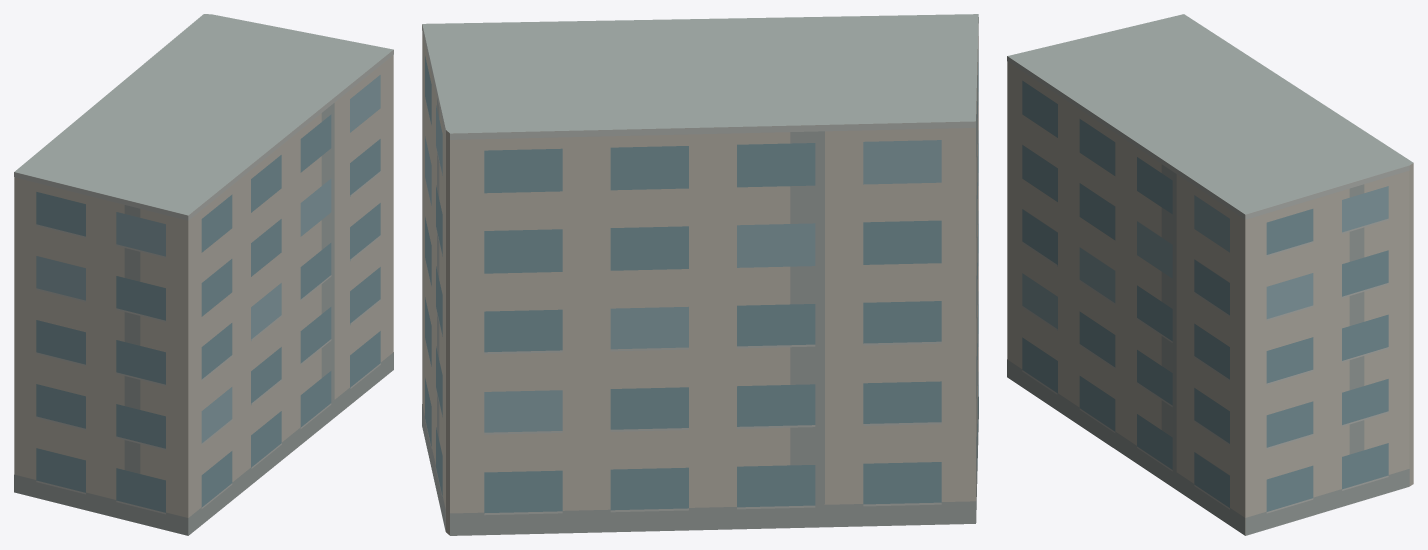
The model's file is survey-upis-33036758.glb.
3 views of the same model, side by side, from view 1: azimuth 30°, elevation 25°; view 2: azimuth 150°, elevation 25°; view 3: azimuth 270°, elevation 25° (orthographic). The views are drawn at different scales.
Parts seen in each view (by area): view 1: survey-upis-33036758.tmp; view 2: survey-upis-33036758.tmp; view 3: survey-upis-33036758.tmp.
Boxes of the visible parts, bbox=[...] form: survey-upis-33036758.tmp: bbox=[14, 14, 393, 535]; survey-upis-33036758.tmp: bbox=[422, 14, 978, 535]; survey-upis-33036758.tmp: bbox=[1007, 14, 1413, 535].
Bounding box in the file's own units: 20.45 × 15.25 × 17.5.
